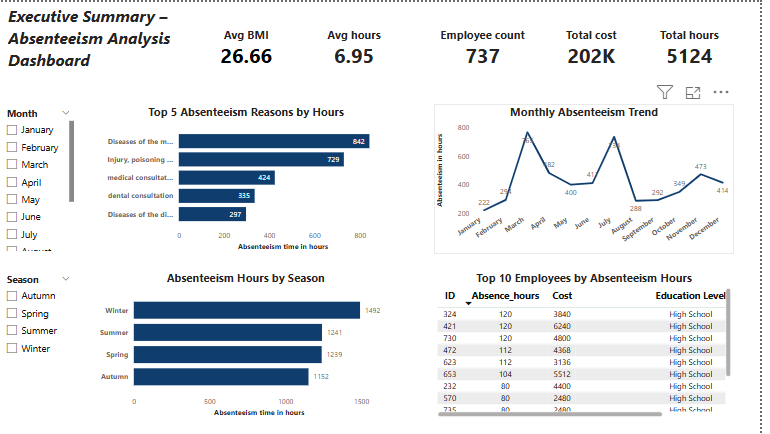

The page's visual inventory and layout, read from the dashboard file:
{"tool":"powerbi","page":{"name":"Executive summary","canvas":[1280,720],"ordinal":0},"visuals":[{"type":"card","title":"Avg BMI","fields":{"Values":["Absenteeism_at_work.Average_BMI"]},"box":[348.3,41,150.7,70.2],"z":0},{"type":"card","title":"Avg hours ","fields":{"Values":["Absenteeism_at_work.Avg_hours_of_Absence"]},"box":[531.2,41,143.4,70.2],"z":1000},{"type":"card","title":"Employee count","fields":{"Values":["Absenteeism_at_work.Employee_Count"]},"box":[736.1,41,162.4,70.2],"z":2000},{"type":"card","title":"Total cost","fields":{"Values":["Absenteeism_at_work.Total_Cost_of_absence"]},"box":[930.7,41,137.6,70.2],"z":3000},{"type":"card","title":"Total hours","fields":{"Values":["Absenteeism_at_work.Total_hours_of_Absence"]},"box":[1088.8,41,147.8,70.2],"z":4000},{"type":"clusteredBarChart","title":"Top 5 Absenteeism Reasons by Hours","fields":{"Y":["Sum(Absenteeism_at_work.Absenteeism time in hours)"],"Category":["Absenteeism_at_work.Reason description"]},"box":[174.1,169.8,500.5,250.2],"z":5000},{"type":"lineChart","title":"Monthly Absenteeism Trend","fields":{"Y":["Sum(Absenteeism_at_work.Absenteeism time in hours)"],"Category":["Absenteeism_at_work.Month Name"]},"box":[736.1,169.8,500.5,250.2],"z":6000},{"type":"clusteredBarChart","title":"Absenteeism Hours by Season","fields":{"Category":["Absenteeism_at_work.Season Description"],"Y":["Sum(Absenteeism_at_work.Absenteeism time in hours)"]},"box":[174.1,446.3,499,250.2],"z":7000},{"type":"tableEx","title":"Top 10 Employees by Absenteeism Hours","fields":{"Values":["Absenteeism_at_work.ID","Absenteeism_at_work.Total_Absence_hours","Absenteeism_at_work.Total_Cost_of_absence","Absenteeism_at_work.Education Level"]},"box":[736.1,446.3,500.5,250.2],"z":8000},{"type":"slicer","fields":{"Values":["Absenteeism_at_work.Month Name"]},"box":[11.7,169.8,130.2,250.2],"z":9000},{"type":"slicer","fields":{"Values":["Absenteeism_at_work.Season Description"]},"box":[11.7,446.3,130.2,250.2],"z":10000},{"type":"textbox","box":[22,0,311.7,150.7],"z":11000}]}

Visuals, with their boxes in screenshot pixels (x1, y1, x2, y2), scaled from the page's 1280x720 canvas onto the 770x434 screenshot:
"Avg BMI" card: <region>210, 25, 300, 67</region>
"Avg hours " card: <region>320, 25, 406, 67</region>
"Employee count" card: <region>443, 25, 541, 67</region>
"Total cost" card: <region>560, 25, 643, 67</region>
"Total hours" card: <region>655, 25, 744, 67</region>
"Top 5 Absenteeism Reasons by Hours" clusteredBarChart: <region>105, 102, 406, 253</region>
"Monthly Absenteeism Trend" lineChart: <region>443, 102, 744, 253</region>
"Absenteeism Hours by Season" clusteredBarChart: <region>105, 269, 405, 420</region>
"Top 10 Employees by Absenteeism Hours" tableEx: <region>443, 269, 744, 420</region>
slicer - Absenteeism_at_work.Month Name: <region>7, 102, 85, 253</region>
slicer - Absenteeism_at_work.Season Description: <region>7, 269, 85, 420</region>
textbox: <region>13, 0, 201, 91</region>
